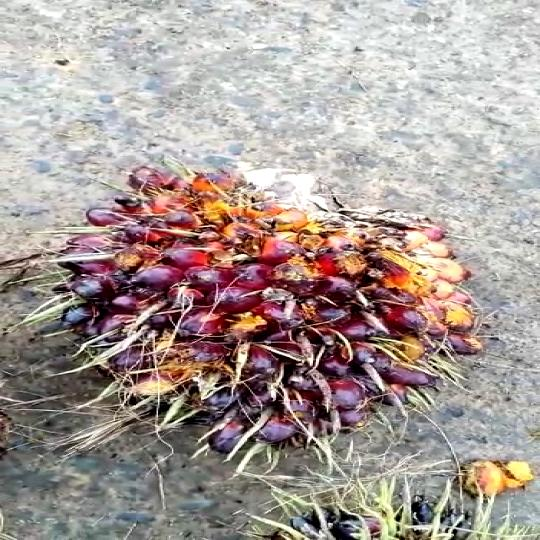masak: (50, 154, 491, 455)
